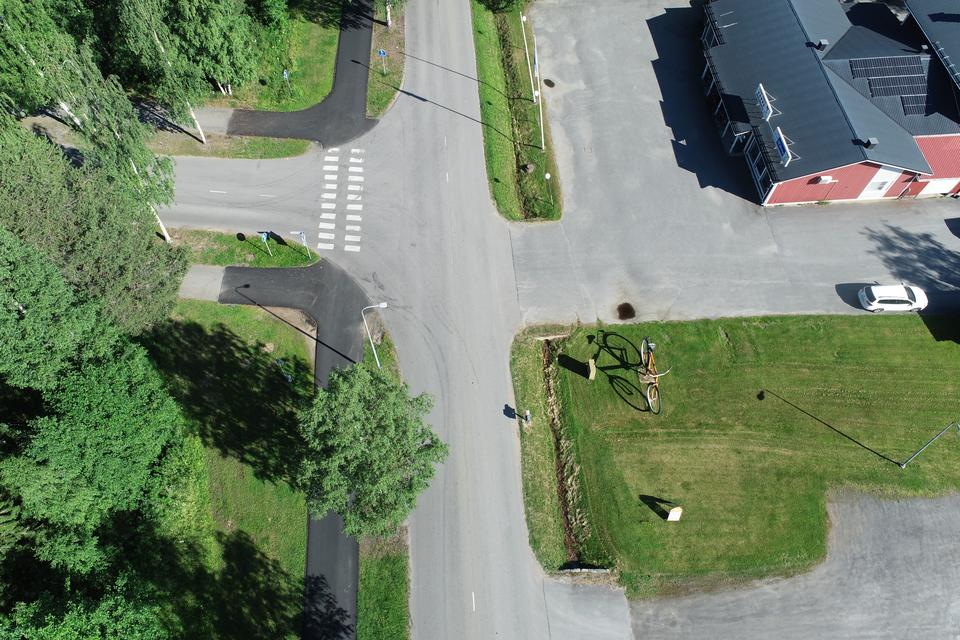intersection: (384, 453, 718, 640), (441, 160, 669, 386), (227, 84, 417, 335)
